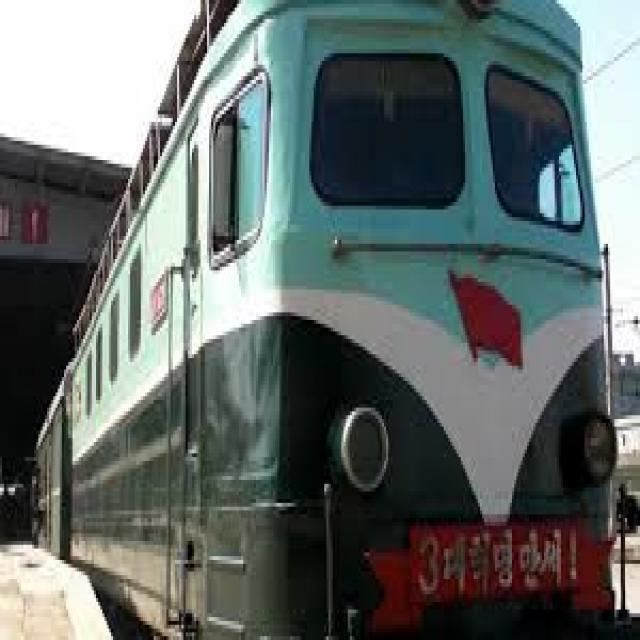trains: (35, 0, 640, 640)
